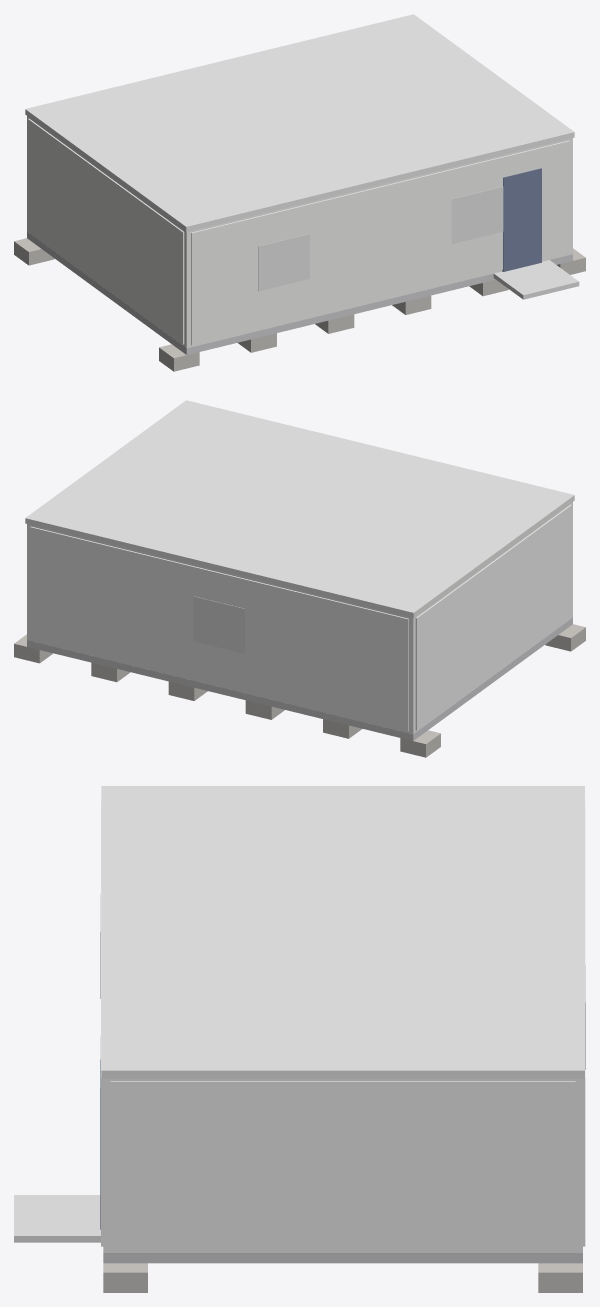
File: Studio-30-Retirement-LOD1.glb
The picture shows the model from 3 angles, top to bottom: view 1: azimuth 30°, elevation 25°; view 2: azimuth 150°, elevation 25°; view 3: azimuth 270°, elevation 25°; orthographic projection. The views are drawn at different scales.
Parts seen in each view (by area): view 1: RoofMain, ExteriorPanelsStandard, WindowsStandard, EntryDoor, FoundationBlocks, BaseFrame, ExteriorShell, AccessibilityRetirement; view 2: RoofMain, ExteriorPanelsStandard, BaseFrame, FoundationBlocks, ExteriorShell, WindowsStandard; view 3: RoofMain, ExteriorPanelsStandard, ExteriorShell, BaseFrame, AccessibilityRetirement, FoundationBlocks.
Boxes of the visible parts, x1,y1,x2,y2 form: RoofMain: [25, 14, 574, 232]; ExteriorPanelsStandard: [28, 118, 569, 345]; WindowsStandard: [258, 186, 503, 291]; EntryDoor: [502, 168, 541, 271]; FoundationBlocks: [14, 238, 585, 371]; BaseFrame: [27, 232, 572, 354]; ExteriorShell: [27, 116, 572, 348]; AccessibilityRetirement: [493, 260, 579, 299]; RoofMain: [25, 400, 574, 618]; ExteriorPanelsStandard: [30, 504, 571, 731]; BaseFrame: [27, 618, 572, 740]; FoundationBlocks: [14, 624, 585, 757]; ExteriorShell: [27, 502, 572, 734]; WindowsStandard: [193, 596, 244, 653]; RoofMain: [101, 786, 584, 1078]; ExteriorPanelsStandard: [101, 801, 585, 1250]; ExteriorShell: [103, 1078, 582, 1252]; BaseFrame: [103, 1253, 582, 1263]; AccessibilityRetirement: [14, 1195, 100, 1242]; FoundationBlocks: [103, 1263, 582, 1292].
Size of the model in its own units: 9.6 by 3.17 by 7.69.
